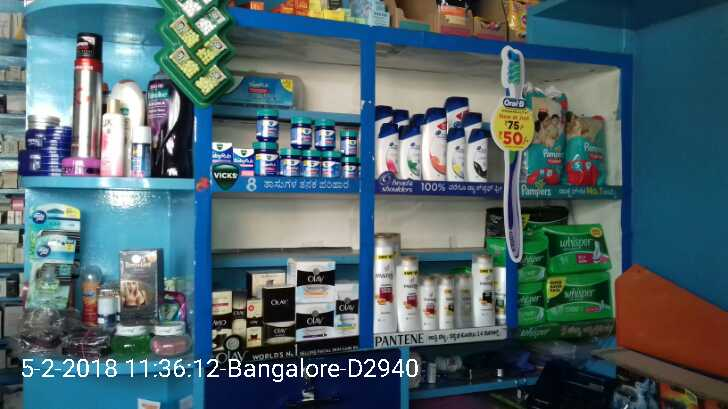beauty: (469, 256, 497, 329), (394, 255, 420, 332), (426, 105, 448, 182), (296, 262, 335, 301), (445, 124, 470, 182), (398, 125, 423, 182), (337, 279, 359, 338), (294, 305, 332, 339), (469, 127, 491, 180), (381, 120, 399, 183), (257, 287, 292, 319), (262, 318, 291, 345)
pharmacy: (516, 89, 564, 190), (542, 274, 617, 320), (566, 119, 611, 189), (546, 230, 611, 277), (285, 116, 319, 152), (297, 154, 319, 181), (316, 119, 337, 147), (282, 151, 296, 179), (324, 156, 339, 182)
